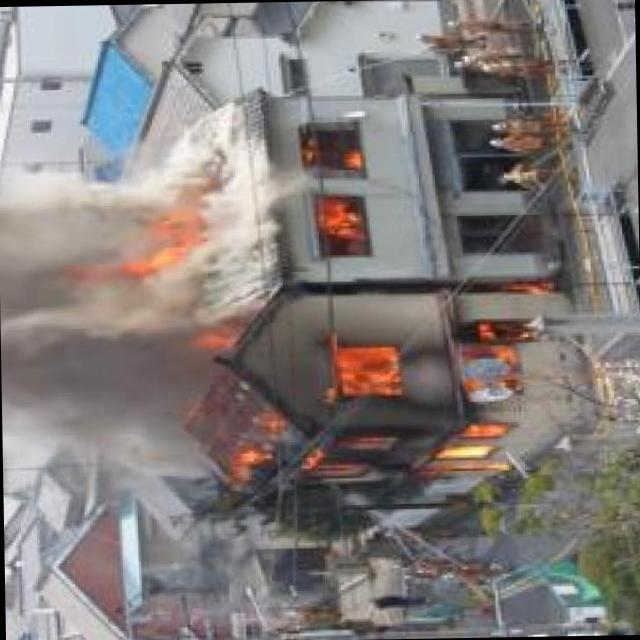Fire: (198, 307, 547, 498), (300, 119, 368, 260), (142, 189, 214, 273)
